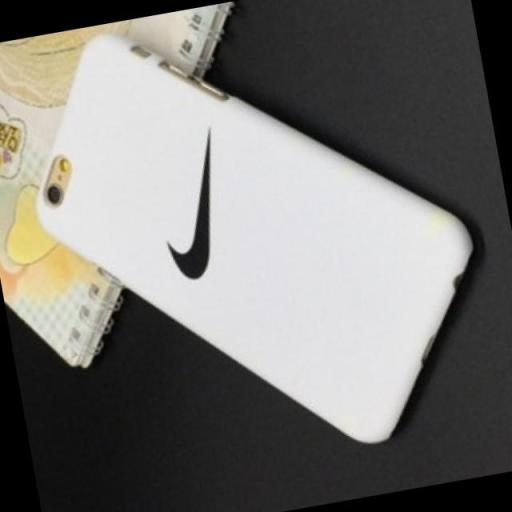Nike: (138, 123, 243, 289)
